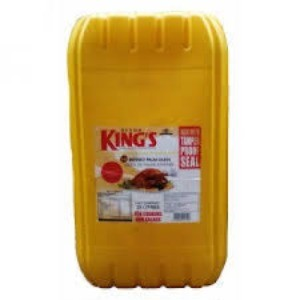vegetable oil_brain food: (82, 52, 212, 254)
